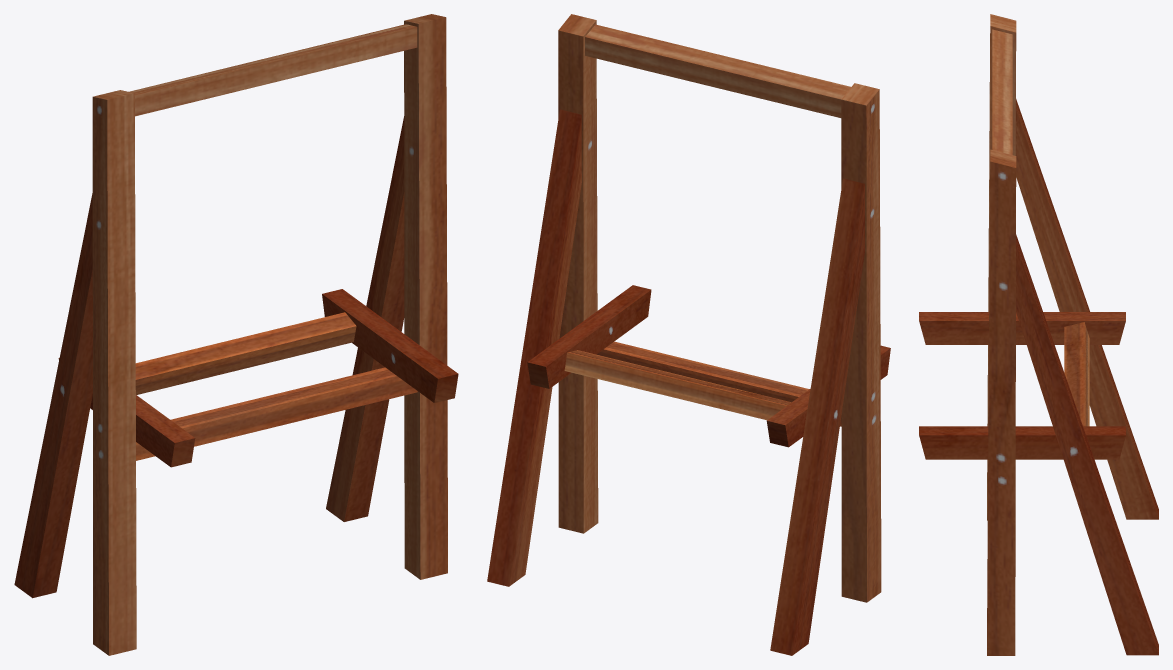
The model's file is static4Leg.glb.
3 renders of one model, left to right at view 1: azimuth 30°, elevation 25°; view 2: azimuth 150°, elevation 25°; view 3: azimuth 270°, elevation 25°, orthographic. The views are drawn at different scales.
Parts seen in each view (by area): view 1: Khung_4_chan.001; view 2: Khung_4_chan.001; view 3: Khung_4_chan.001.
Part boxes in pixels (box(x1,y1,x2,y2)): Khung_4_chan.001: box(14, 14, 458, 655); Khung_4_chan.001: box(487, 14, 890, 655); Khung_4_chan.001: box(919, 14, 1158, 655).
Bounding box in the file's own units: 1.81 × 2.83 × 1.24.
Materials: 1 (1 with a texture image).
